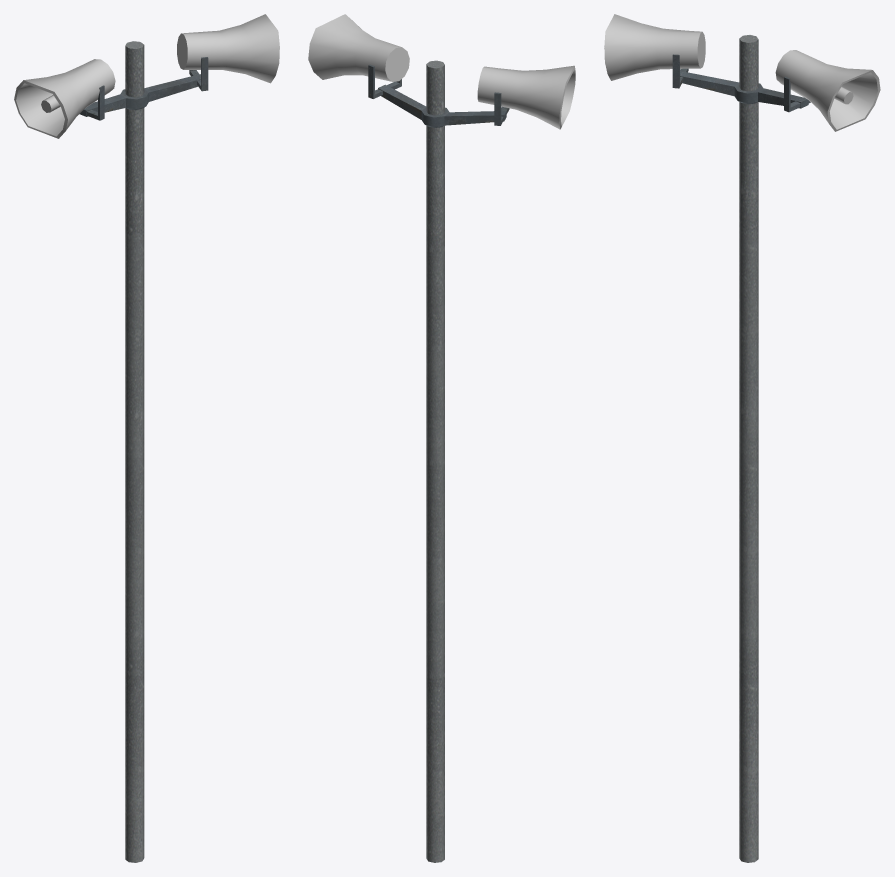
File: megaphone.fbx
3 renders of one model, left to right at view 1: azimuth 30°, elevation 25°; view 2: azimuth 150°, elevation 25°; view 3: azimuth 330°, elevation 25°, orthographic. The views are drawn at different scales.
Visible parts, largest first — view 1: Light-01; view 2: Light-01; view 3: Light-01.
Part boxes in pixels (<box>): Light-01: <box>14,14,279,862</box>; Light-01: <box>308,14,575,862</box>; Light-01: <box>604,14,880,862</box>.
Size of the model in its own units: 226 by 703 by 70.02.
